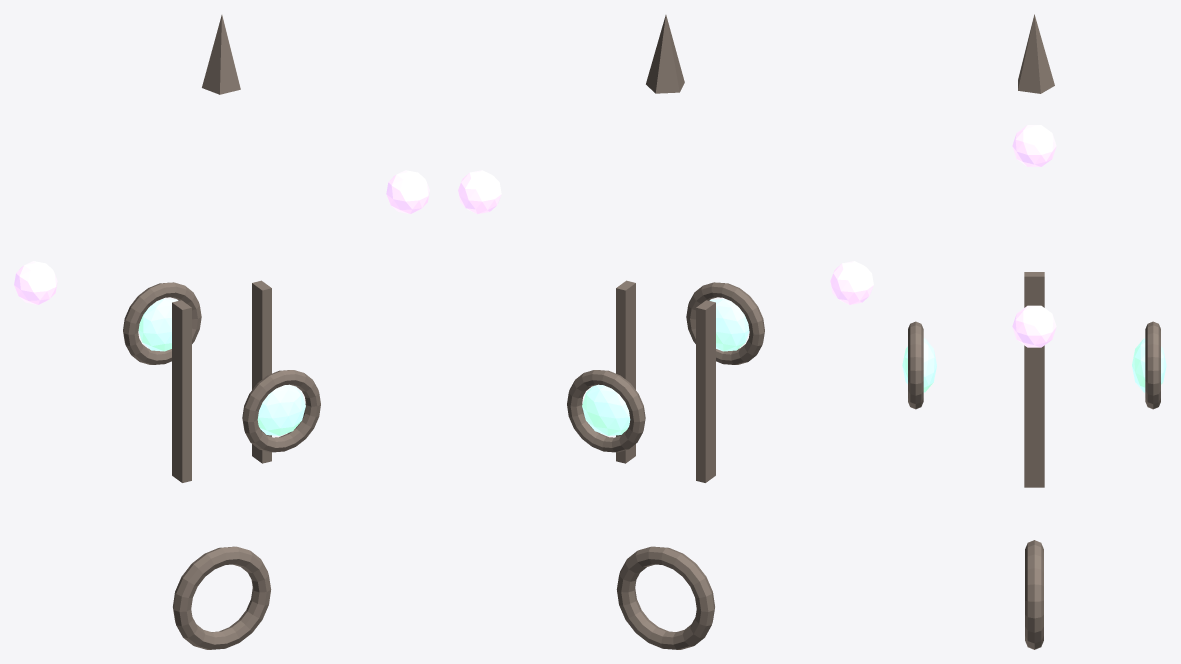
Rendered from weapon_pea_repeater-decor.glb.
3 renders of one model, left to right at view 1: azimuth 30°, elevation 25°; view 2: azimuth 150°, elevation 25°; view 3: azimuth 270°, elevation 25°, orthographic.
Parts seen in each view (by area): view 1: weapon_pea_repeater_decor; view 2: weapon_pea_repeater_decor; view 3: weapon_pea_repeater_decor.
Part boxes in pixels (x1=…): weapon_pea_repeater_decor: x1=14, y1=15, x2=429, y2=649; weapon_pea_repeater_decor: x1=458, y1=15, x2=873, y2=649; weapon_pea_repeater_decor: x1=902, y1=14, x2=1166, y2=649.
Size of the model in its own units: 0.5933 by 0.88 by 0.334.
